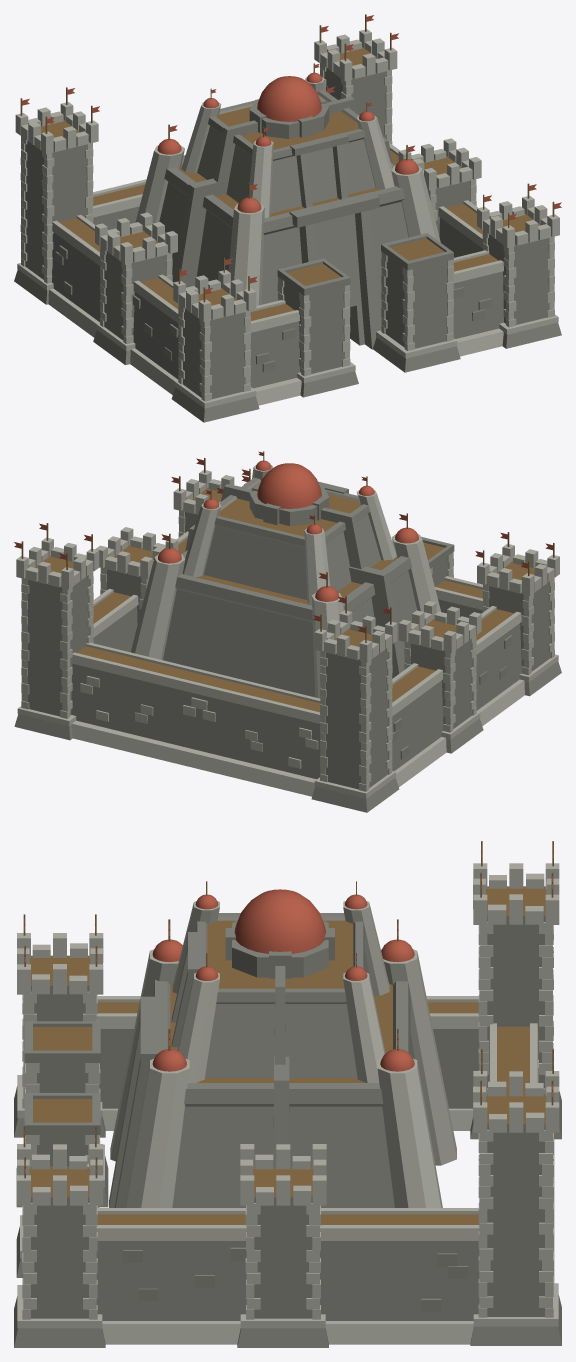
The model's file is stone-base.glb.
3 renders of one model, top to bottom at view 1: azimuth 30°, elevation 25°; view 2: azimuth 150°, elevation 25°; view 3: azimuth 270°, elevation 25°, orthographic. The views are drawn at different scales.
Visible parts, largest first — view 1: Wonder_SecondAge_Level3; view 2: Wonder_SecondAge_Level3; view 3: Wonder_SecondAge_Level3.
Boxes of the visible parts, box(x1,y1,x2,y2) form: Wonder_SecondAge_Level3: box(14, 14, 561, 422); Wonder_SecondAge_Level3: box(14, 451, 561, 812); Wonder_SecondAge_Level3: box(14, 841, 561, 1347).
Bounding box in the file's own units: 2.13 × 1.35 × 1.96.
